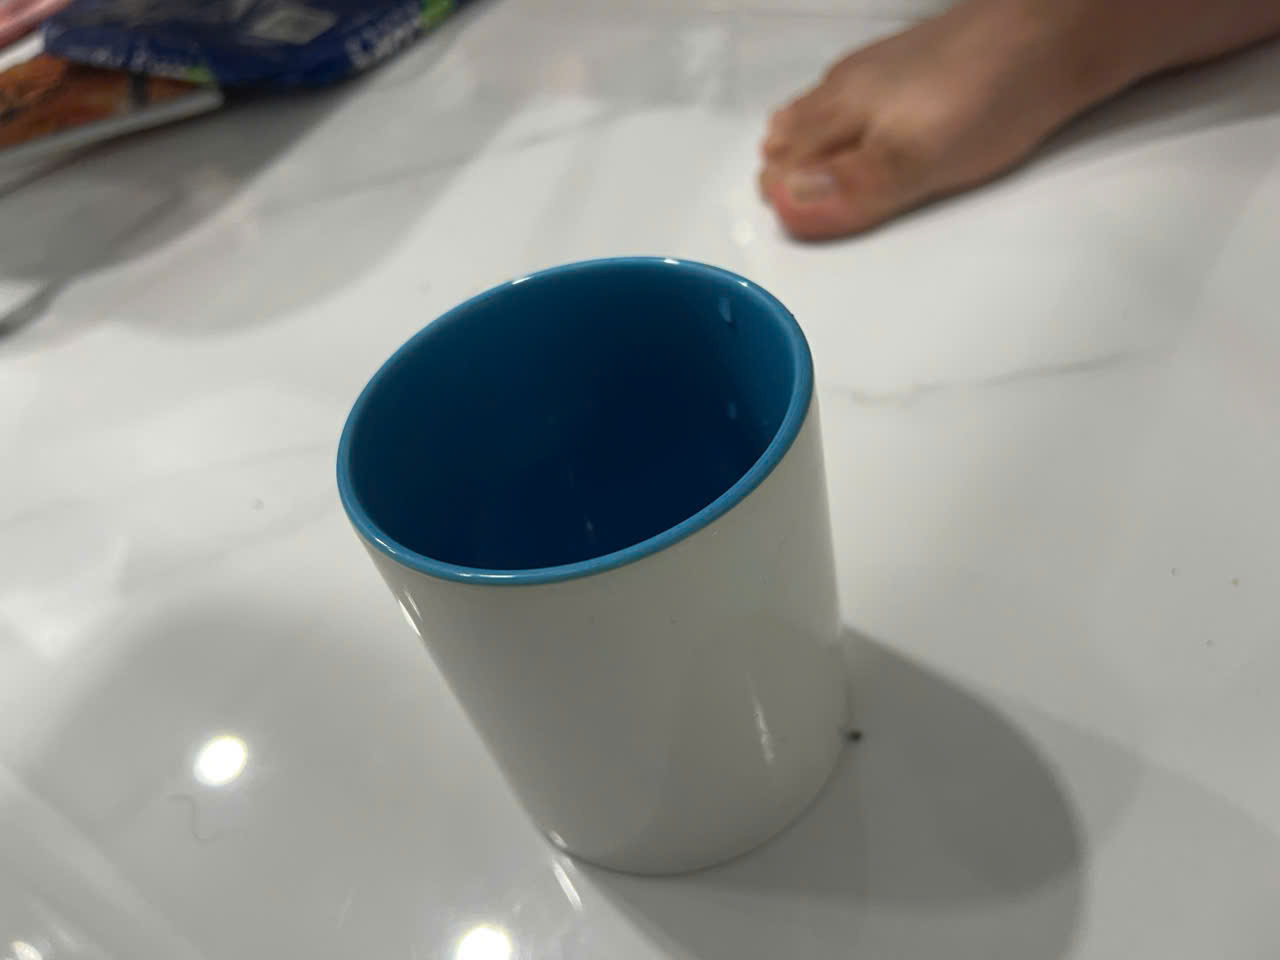ly coc: (304, 238, 910, 881)
